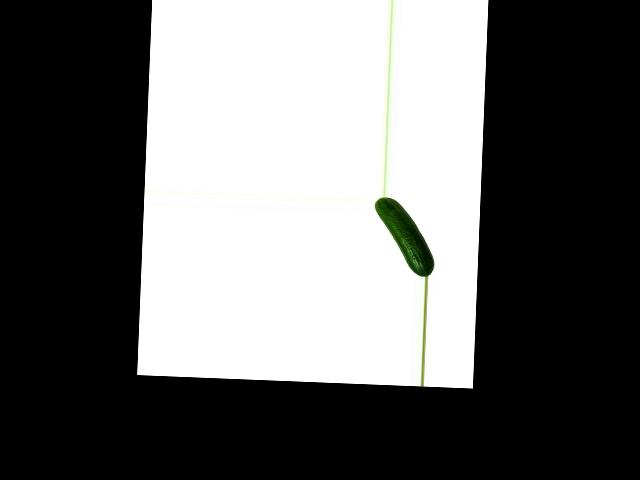cucumber: (372, 196, 437, 277)
